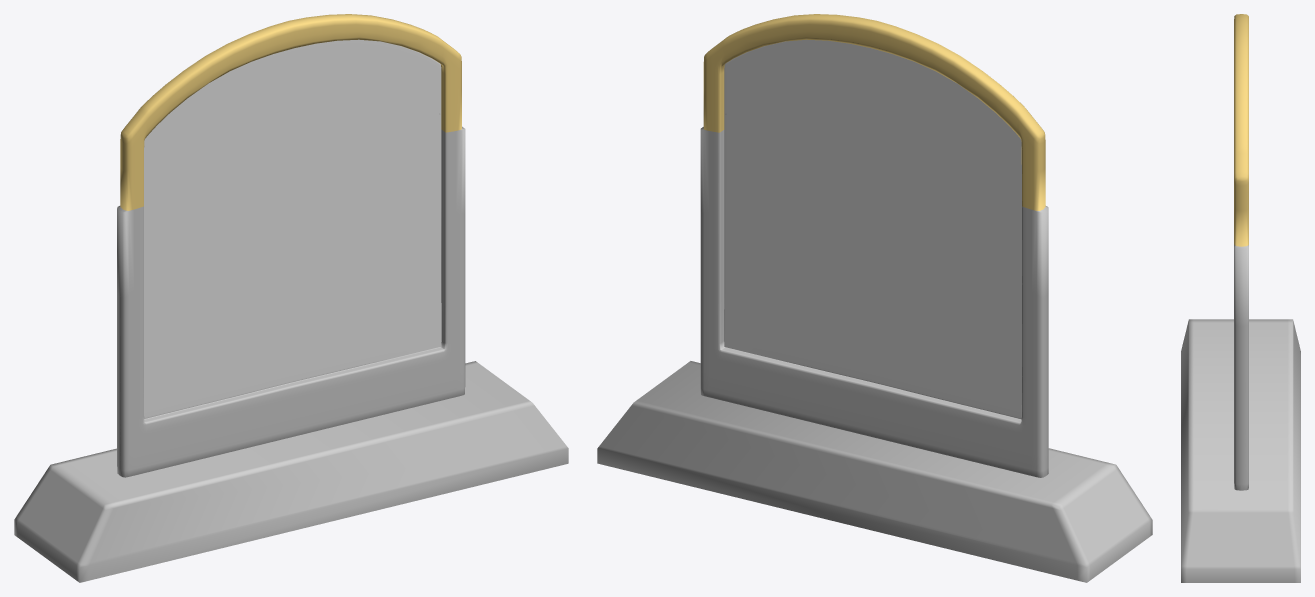
File: minmaxplaque.fbx
The picture shows the model from 3 angles, left to right: view 1: azimuth 30°, elevation 25°; view 2: azimuth 150°, elevation 25°; view 3: azimuth 270°, elevation 25°; orthographic projection. The views are drawn at different scales.
Parts seen in each view (by area): view 1: minmaxplaquetop; view 2: minmaxplaquetop; view 3: minmaxplaquetop.
Boxes of the visible parts, x1=… form: minmaxplaquetop: x1=14, y1=14, x2=568, y2=582; minmaxplaquetop: x1=597, y1=14, x2=1152, y2=582; minmaxplaquetop: x1=1181, y1=14, x2=1300, y2=582.
Bounding box in the file's own units: 284 × 265 × 66.
